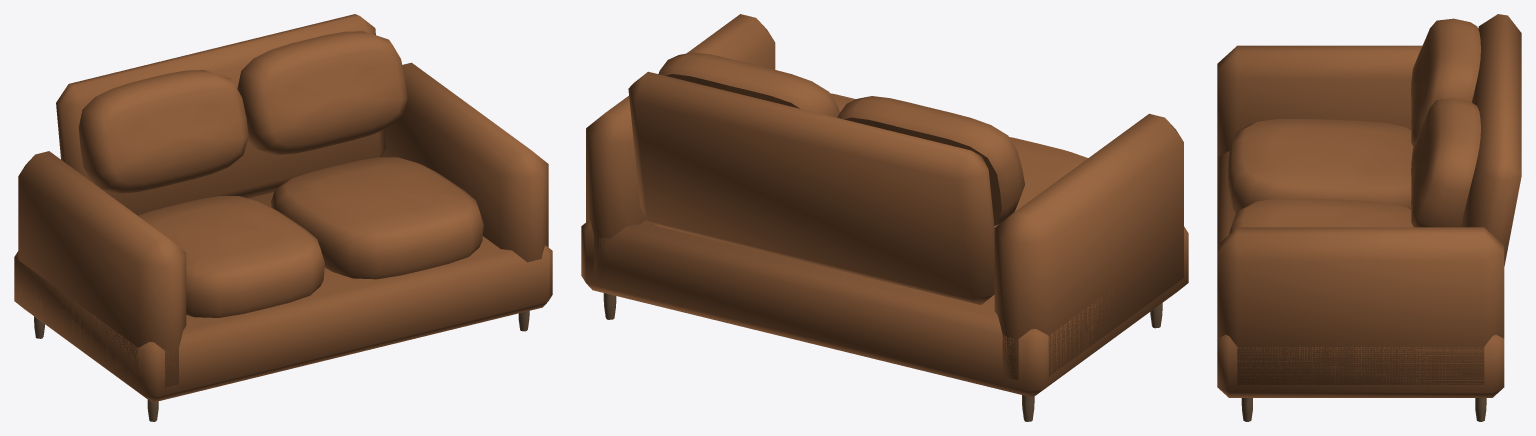
The model's file is whiskey-loveseat-lod1.glb.
3 views of the same model, side by side, from view 1: azimuth 30°, elevation 25°; view 2: azimuth 150°, elevation 25°; view 3: azimuth 270°, elevation 25° (orthographic). The views are drawn at different scales.
Visible parts, largest first — view 1: whiskey-loveseat.lod1__whiskey cognac leather, whiskey-loveseat.lod1__dining smoked oak; view 2: whiskey-loveseat.lod1__whiskey cognac leather, whiskey-loveseat.lod1__dining smoked oak; view 3: whiskey-loveseat.lod1__whiskey cognac leather, whiskey-loveseat.lod1__dining smoked oak.
Boxes of the visible parts, x1,y1,x2,y2 form: whiskey-loveseat.lod1__whiskey cognac leather: (14,14,552,402); whiskey-loveseat.lod1__dining smoked oak: (34,311,529,421); whiskey-loveseat.lod1__whiskey cognac leather: (581,14,1188,397); whiskey-loveseat.lod1__dining smoked oak: (603,293,1162,421); whiskey-loveseat.lod1__whiskey cognac leather: (1217,14,1521,397); whiskey-loveseat.lod1__dining smoked oak: (1241,398,1486,421).
Size of the model in its own units: 1.46 by 0.8129 by 0.912.
